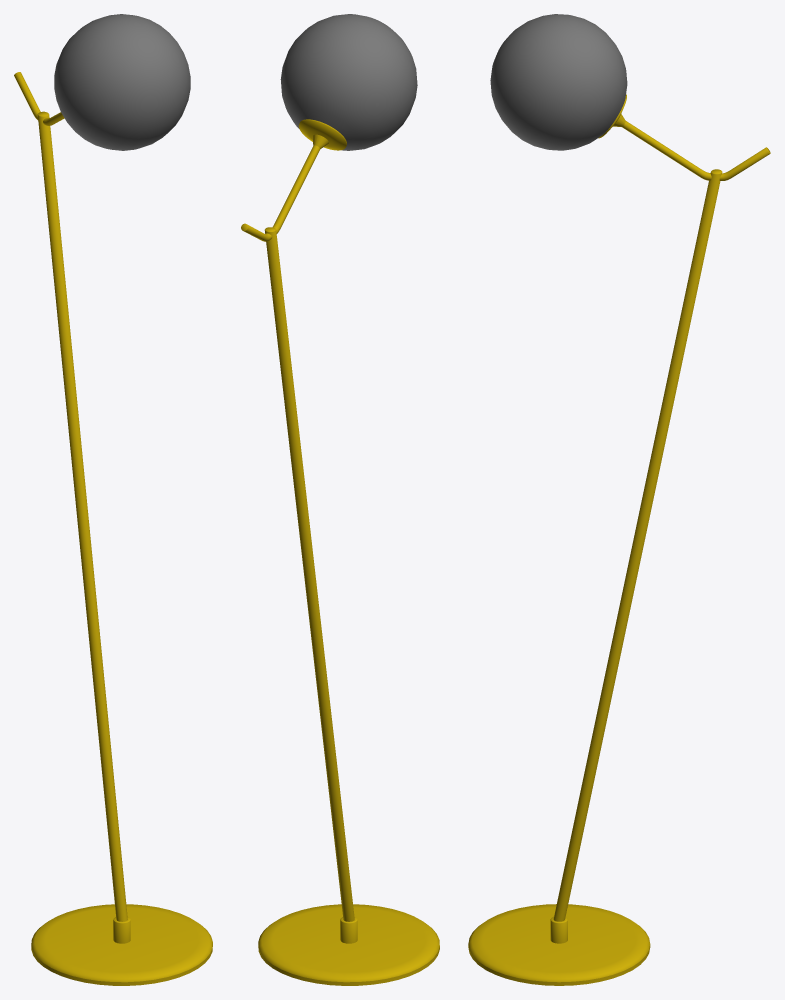
Rendered from LMP_FloorBubble.FBX.
3 renders of one model, left to right at view 1: azimuth 30°, elevation 25°; view 2: azimuth 150°, elevation 25°; view 3: azimuth 270°, elevation 25°, orthographic.
Visible parts, largest first — view 1: LMP_FloorBubble; view 2: LMP_FloorBubble; view 3: LMP_FloorBubble.
Boxes of the visible parts, x1,y1,x2,y2 form: LMP_FloorBubble: (14,14,212,985); LMP_FloorBubble: (241,14,439,985); LMP_FloorBubble: (468,14,770,985).
Bounding box in the file's own units: 36.19 × 204 × 60.14.
